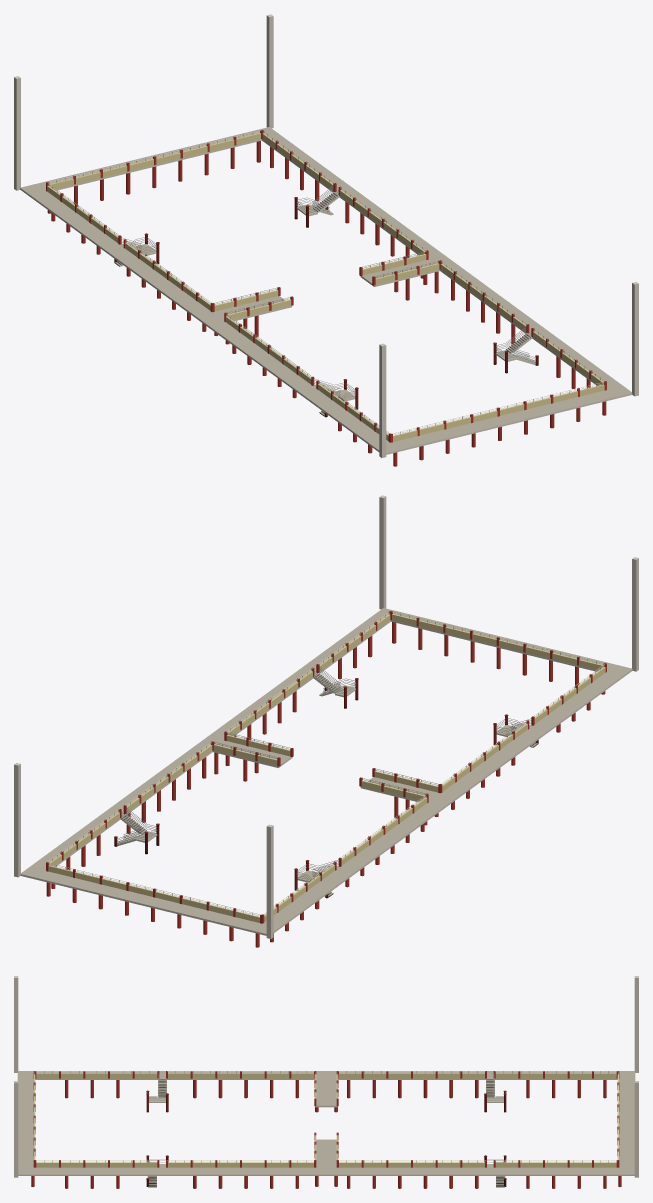
File: SM_Galleries_Bridges.glb
3 renders of one model, top to bottom at view 1: azimuth 30°, elevation 25°; view 2: azimuth 150°, elevation 25°; view 3: azimuth 270°, elevation 25°, orthographic. The views are drawn at different scales.
Visible parts, largest first — view 1: SM_Galleries_Bridges_LM, SM_Galleries_Bridges_VC; view 2: SM_Galleries_Bridges_LM, SM_Galleries_Bridges_VC; view 3: SM_Galleries_Bridges_LM, SM_Galleries_Bridges_VC.
Boxes of the visible parts, left/top/right/bottom form: SM_Galleries_Bridges_LM: left=14, top=14, right=638, bottom=466; SM_Galleries_Bridges_VC: left=46, top=130, right=606, bottom=434; SM_Galleries_Bridges_LM: left=14, top=495, right=638, bottom=947; SM_Galleries_Bridges_VC: left=46, top=611, right=606, bottom=915; SM_Galleries_Bridges_LM: left=14, top=976, right=638, bottom=1188; SM_Galleries_Bridges_VC: left=33, top=1071, right=619, bottom=1187.
Bounding box in the file's own units: 43.3 × 21.5 × 107.
